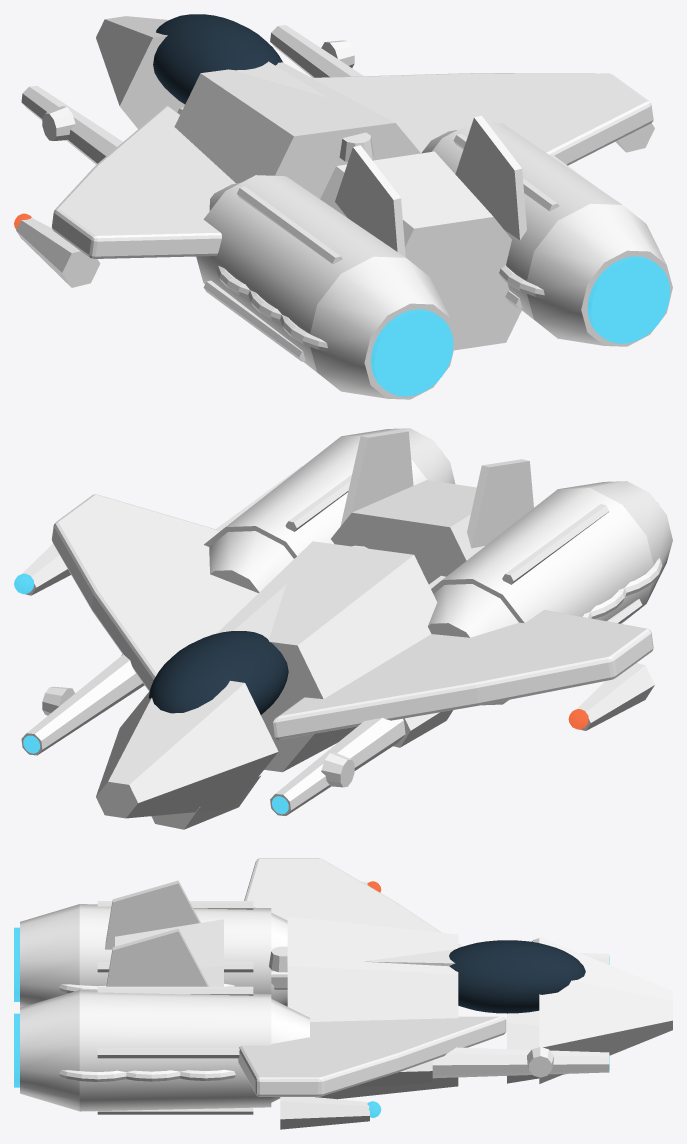
File: SHIP_Player_Fighter_01.glb
3 views of the same model, one above another, from view 1: azimuth 30°, elevation 25°; view 2: azimuth 150°, elevation 25°; view 3: azimuth 270°, elevation 25° (orthographic). The views are drawn at different scales.
Parts seen in each view (by area): view 1: Ship_Body, Engine_L, Wing_L, Engine_R, Wing_R, Cockpit_Glass, Engine_R_Core, Engine_L_Core, Fin_R, Fin_L, Weapon_L, Weapon_R (+3 smaller); view 2: Ship_Body, Wing_L, Engine_L, Wing_R, Engine_R, Cockpit_Glass, Weapon_L, Fin_L, Fin_R, Weapon_R, Thruster_L_Nozzle, Thruster_R_Nozzle; view 3: Ship_Body, Engine_R, Wing_R, Engine_L, Wing_L, Cockpit_Glass, Weapon_R, Fin_R, Fin_L, Thruster_R_Nozzle, Thruster_Up_Nozzle, Engine_L_Core (+1 smaller).
Boxes of the visible parts, x1,y1,x2,y2 form: Ship_Body: (96,16,521,350); Engine_L: (196,175,456,399); Wing_L: (16,105,235,287); Engine_R: (421,122,672,346); Wing_R: (312,73,654,165); Cockpit_Glass: (153,14,282,104); Engine_R_Core: (587,256,670,343); Engine_L_Core: (371,309,453,396); Fin_R: (455,115,526,239); Fin_L: (335,145,405,257); Weapon_L: (21,85,122,164); Weapon_R: (270,25,363,77); Ship_Body: (96,480,484,829); Wing_L: (273,610,654,739); Engine_L: (428,481,672,705); Wing_R: (22,494,258,691); Engine_R: (204,428,455,592); Cockpit_Glass: (148,631,288,714); Weapon_L: (270,710,453,815); Fin_L: (467,459,533,548); Fin_R: (340,429,413,525); Weapon_R: (21,654,144,755); Thruster_L_Nozzle: (321,752,354,787); Thruster_R_Nozzle: (42,686,75,715); Ship_Body: (115,916,672,1099); Engine_R: (20,986,309,1114); Wing_R: (238,1016,506,1129); Engine_L: (20,901,287,1007); Wing_L: (244,858,462,989); Cockpit_Glass: (449,940,585,1013); Weapon_R: (361,1047,609,1087); Fin_R: (106,928,209,986); Fin_L: (105,880,200,949); Thruster_R_Nozzle: (527,1047,553,1077); Thruster_Up_Nozzle: (269,946,287,972); Engine_L_Core: (14,927,19,1001).
Size of what is drawn, in the model's own units: 9.3 by 3.19 by 11.02.
